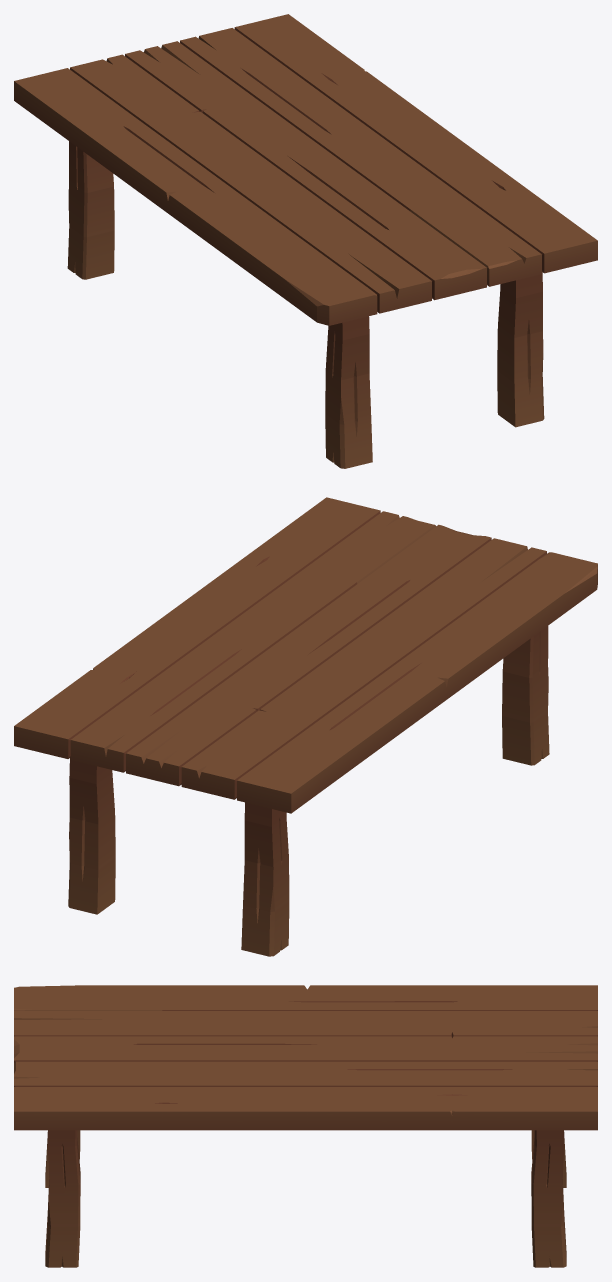
File: obj_table.fbx
3 renders of one model, top to bottom at view 1: azimuth 30°, elevation 25°; view 2: azimuth 150°, elevation 25°; view 3: azimuth 270°, elevation 25°, orthographic. The views are drawn at different scales.
Parts seen in each view (by area): view 1: Cube.020; view 2: Cube.020; view 3: Cube.020.
Boxes of the visible parts, box(x1,y1,x2,y2) form: Cube.020: box(14, 14, 597, 468); Cube.020: box(14, 497, 597, 956); Cube.020: box(14, 985, 597, 1267).
Size of the model in its own units: 200 by 127 by 391.
